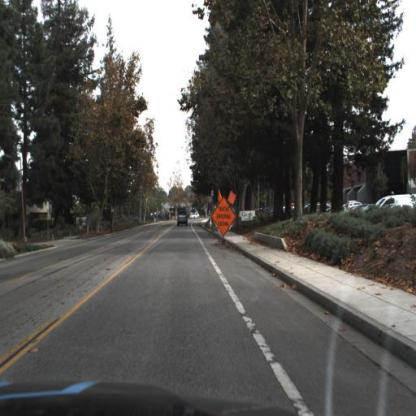car: (375, 195, 416, 219), (176, 208, 190, 230), (189, 210, 201, 221)
pedestrian: (77, 212, 85, 236), (85, 214, 90, 236)
